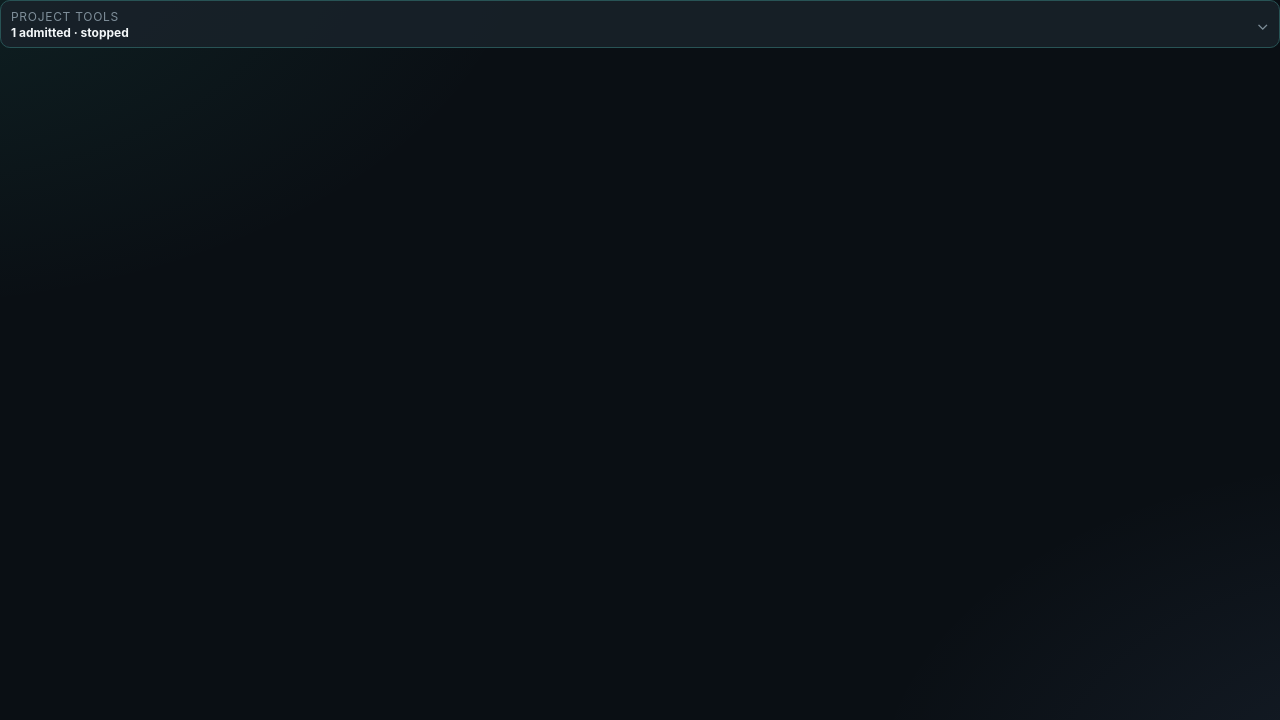
AgentMcpProjectToolsPanel › distinguishes durable admission from a stopped app-run host
The image size is (1280, 720).
Expected: the text "1 admitted · stopped" is shown, top-left (11, 24), bottom-right (129, 40)
Click the text "Project tools" at (70, 16), box top-left (11, 9), bottom-right (129, 24)
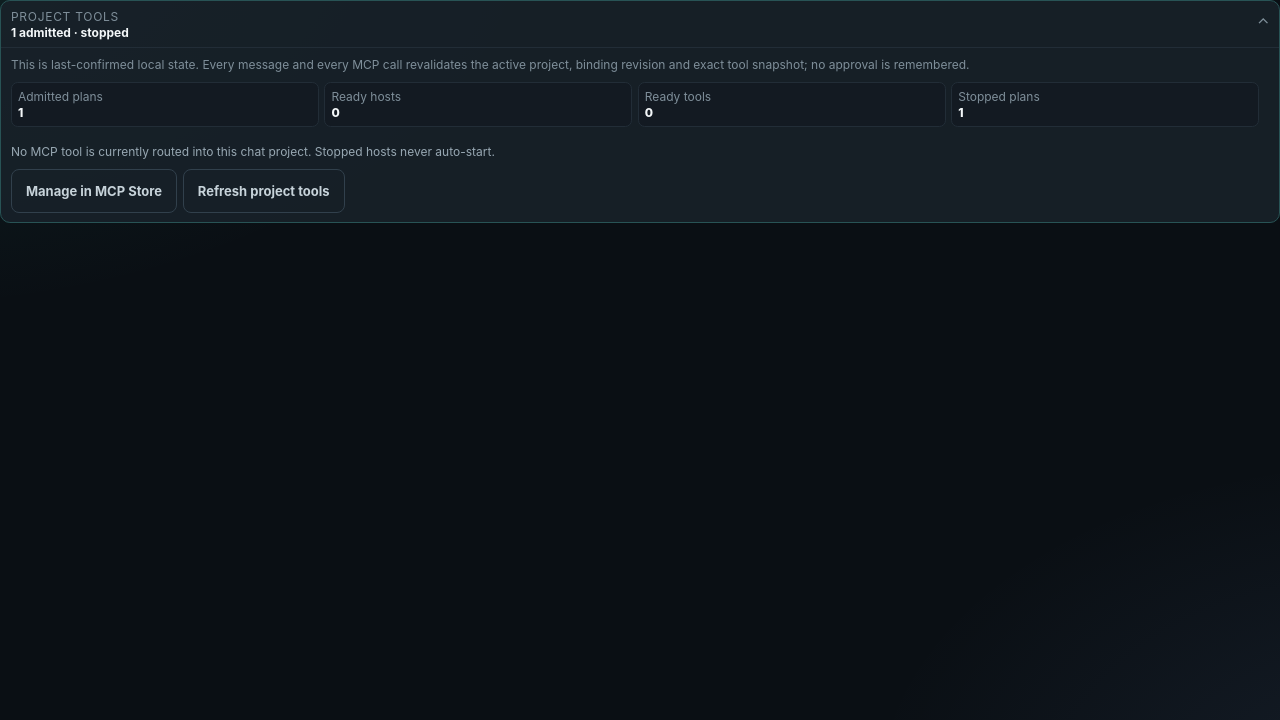
Result: the text "1" below "Stopped plans" is shown at top-left (958, 105), bottom-right (964, 120)
Result: the text "Stopped hosts never auto-start" is shown at top-left (11, 144), bottom-right (495, 159)
